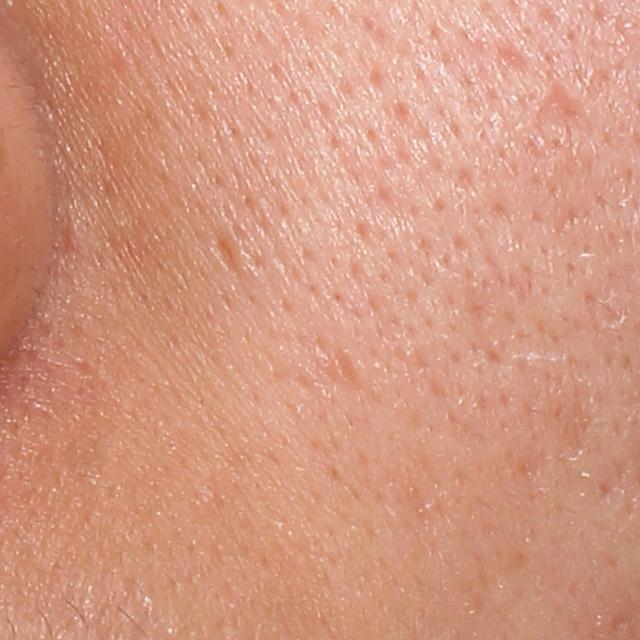atrophic_scar: (533, 80, 590, 146), (336, 344, 368, 391), (495, 45, 532, 80), (213, 234, 240, 280)
